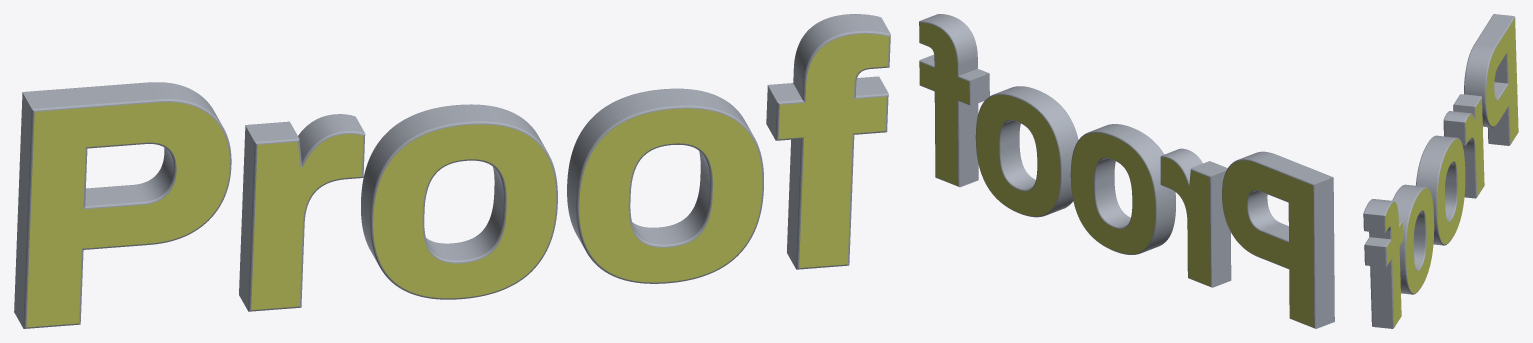
The picture shows the model from 3 angles, left to right: view 1: azimuth 30°, elevation 25°; view 2: azimuth 150°, elevation 25°; view 3: azimuth 270°, elevation 25°; orthographic projection. The views are drawn at different scales.
Parts seen in each view (by area): view 1: Proof / outlined glyph 1, Proof / outlined glyph 3, Proof / outlined glyph 4, Proof / outlined glyph 5, Proof / outlined glyph 2; view 2: Proof / outlined glyph 1, Proof / outlined glyph 3, Proof / outlined glyph 4, Proof / outlined glyph 5, Proof / outlined glyph 2; view 3: Proof / outlined glyph 1, Proof / outlined glyph 5, Proof / outlined glyph 3, Proof / outlined glyph 4, Proof / outlined glyph 2.
Part boxes in pixels (x1,y1,x2,y2): Proof / outlined glyph 1: (14, 82, 231, 328); Proof / outlined glyph 3: (361, 104, 557, 299); Proof / outlined glyph 4: (567, 88, 763, 283); Proof / outlined glyph 5: (766, 14, 890, 269); Proof / outlined glyph 2: (239, 114, 365, 311); Proof / outlined glyph 1: (1222, 151, 1334, 328); Proof / outlined glyph 3: (1070, 124, 1175, 254); Proof / outlined glyph 4: (975, 86, 1078, 217); Proof / outlined glyph 5: (919, 14, 989, 187); Proof / outlined glyph 2: (1160, 148, 1231, 287); Proof / outlined glyph 1: (1464, 14, 1518, 145); Proof / outlined glyph 5: (1363, 199, 1403, 328); Proof / outlined glyph 3: (1416, 135, 1465, 245); Proof / outlined glyph 4: (1392, 184, 1434, 294); Proof / outlined glyph 2: (1443, 94, 1484, 198).
Size of the model in its own units: 5.62 by 1.75 by 1.89.
